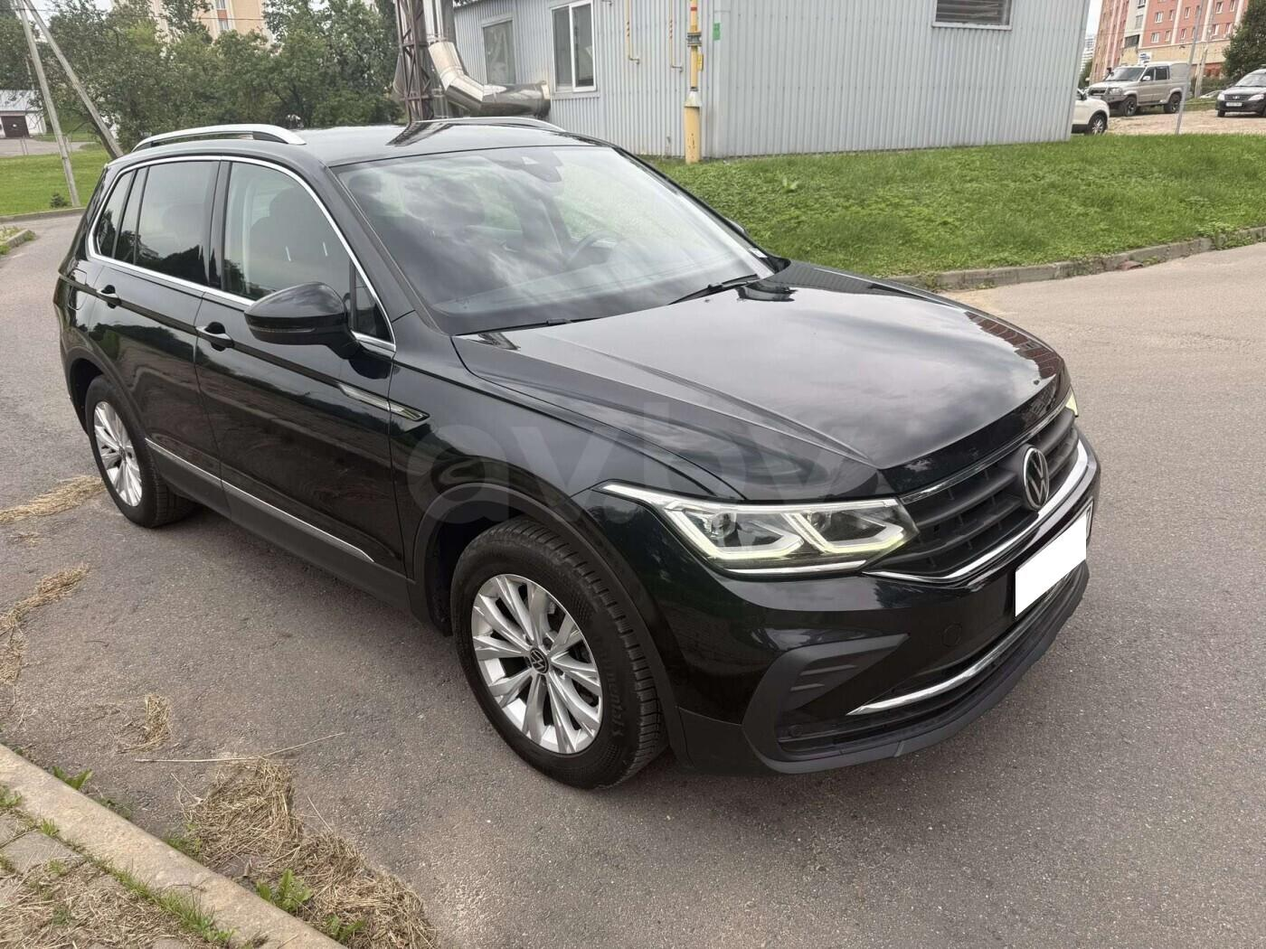Tiguan_2020-2024: (53, 121, 1105, 786)
